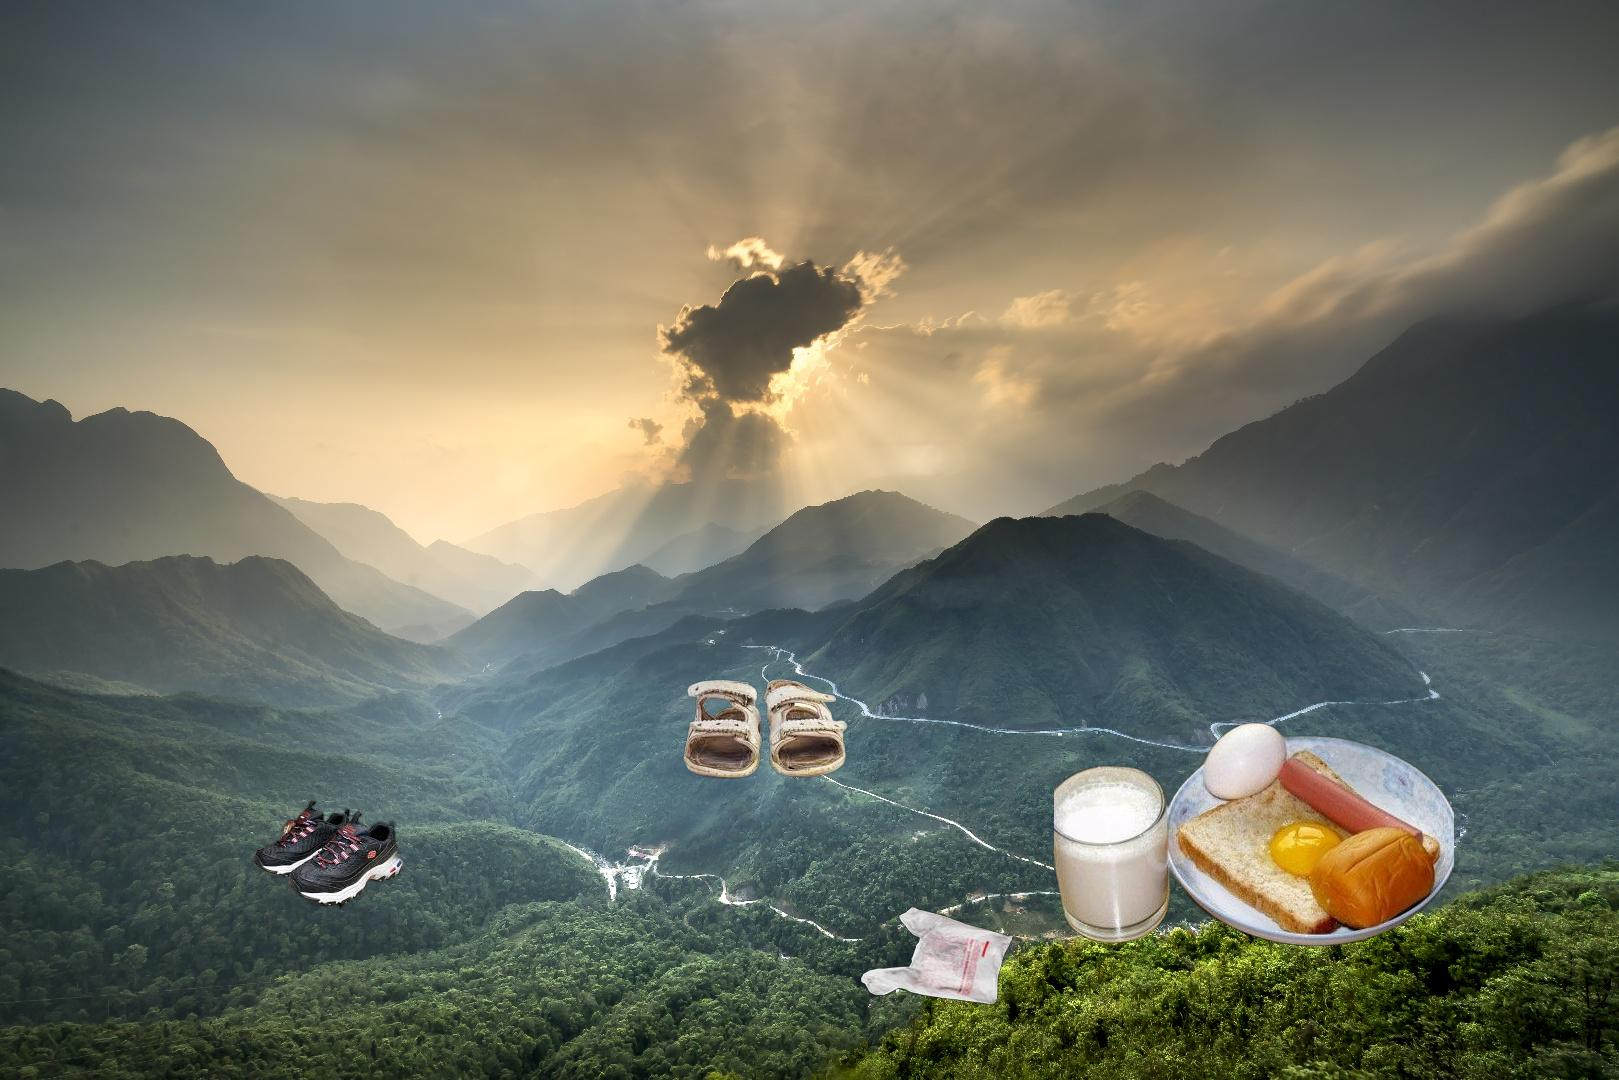biological: (1054, 720, 1454, 949)
plastic-bag: (858, 904, 1016, 1008)
shoes: (250, 796, 407, 915), (680, 676, 850, 781)
